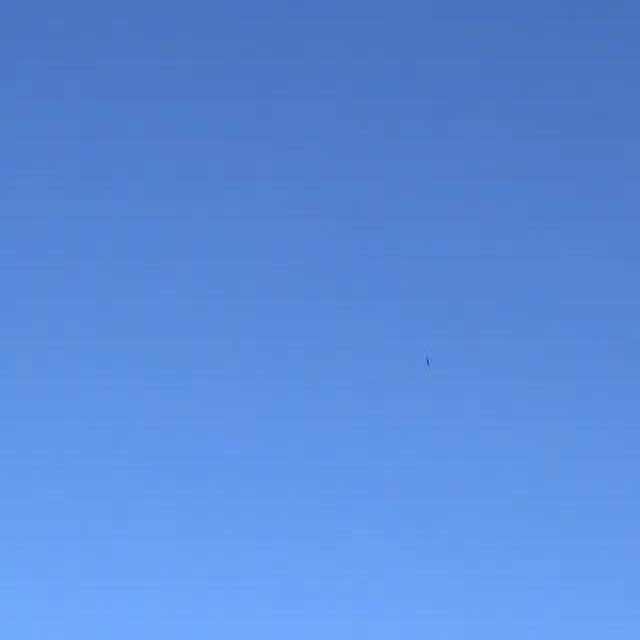bird: (415, 346, 434, 375)
